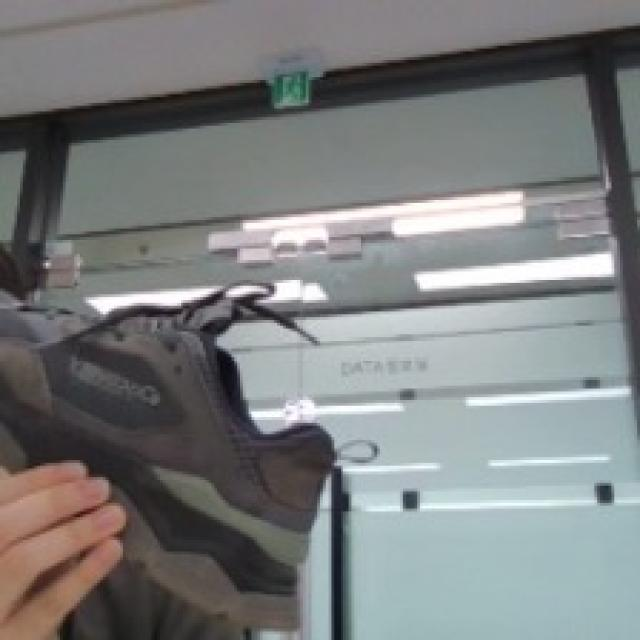shoe: (0, 271, 343, 640)
